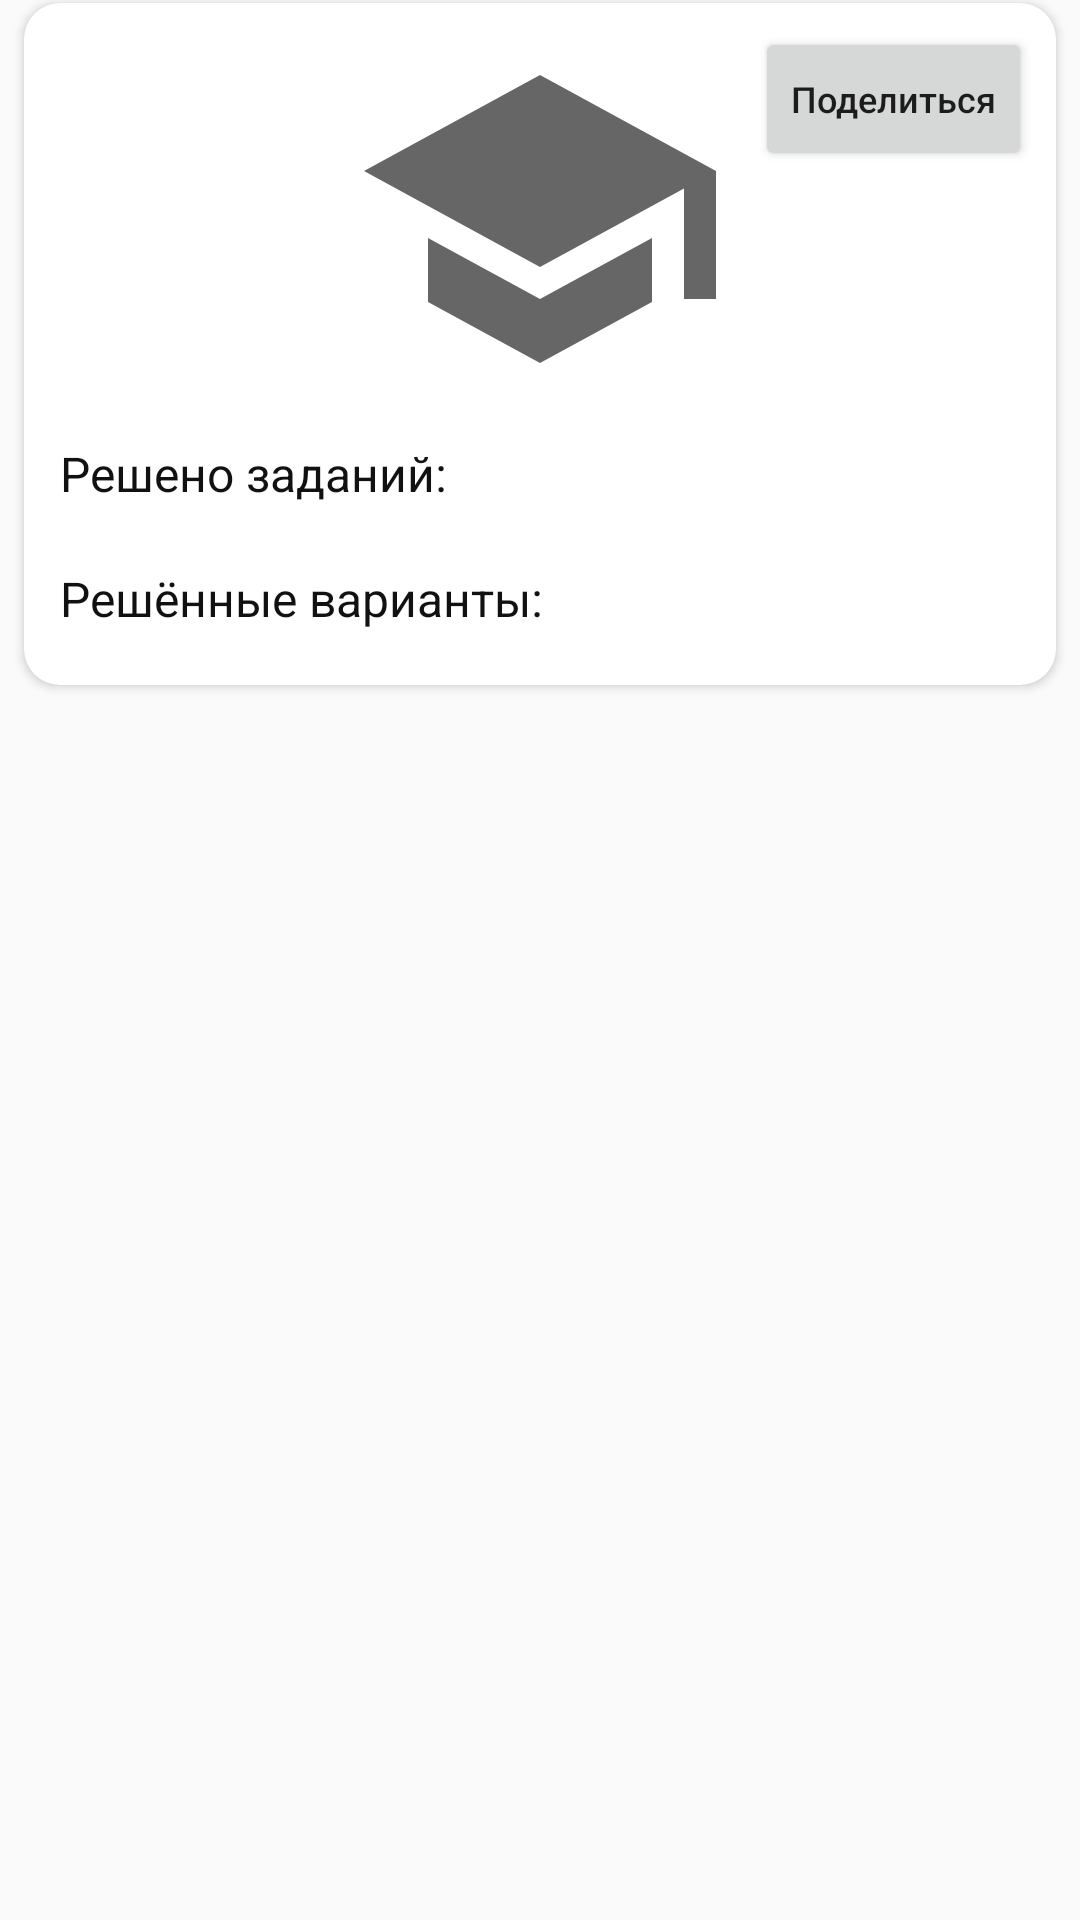

Where to tap for icons on this 1080x1920 app screen, as [x,y]:
school: [540,219]
